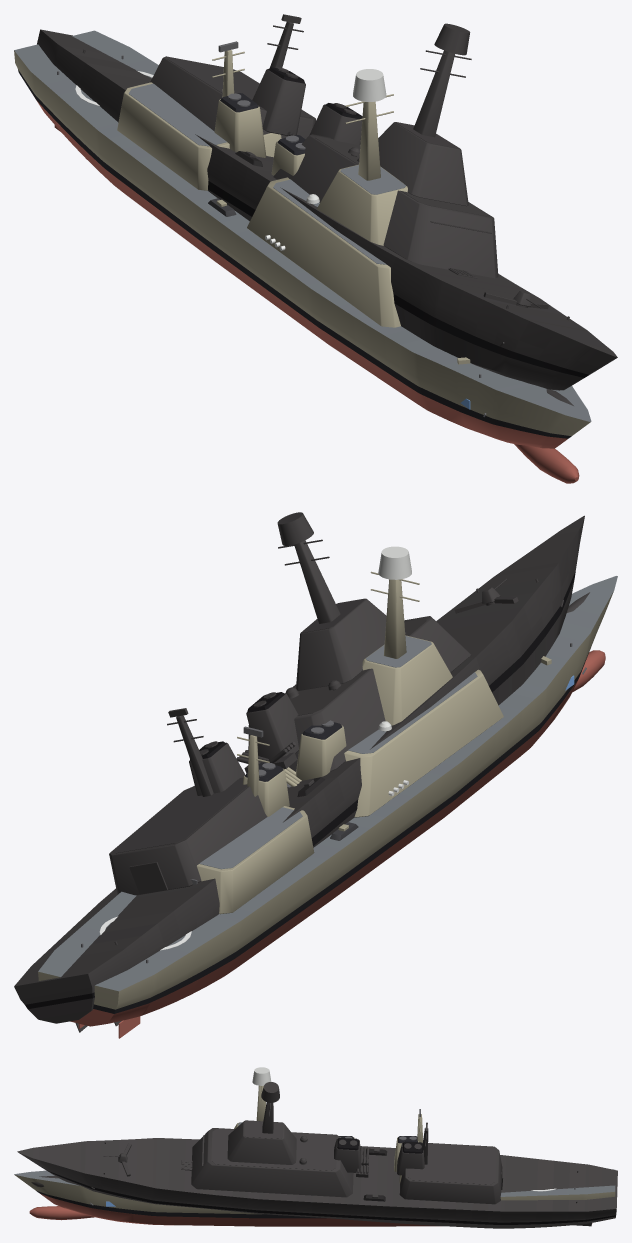
The model's file is asFrigate__fremm.glb.
3 renders of one model, top to bottom at view 1: azimuth 30°, elevation 25°; view 2: azimuth 150°, elevation 25°; view 3: azimuth 270°, elevation 25°, orthographic. The views are drawn at different scales.
Visible parts, largest first — view 1: Hull_Mesh, Wreck; view 2: Hull_Mesh, Wreck; view 3: Wreck, Hull_Mesh.
Boxes of the visible parts, box(x1,y1,x2,y2) form: Hull_Mesh: box(14, 30, 591, 483); Wreck: box(37, 14, 617, 405); Hull_Mesh: box(38, 546, 617, 1038); Wreck: box(14, 512, 589, 1032); Wreck: box(17, 1082, 617, 1228); Hull_Mesh: box(14, 1067, 615, 1226).
Size of what is drawn, in the model's own units: 27.31 by 44.09 by 149.
